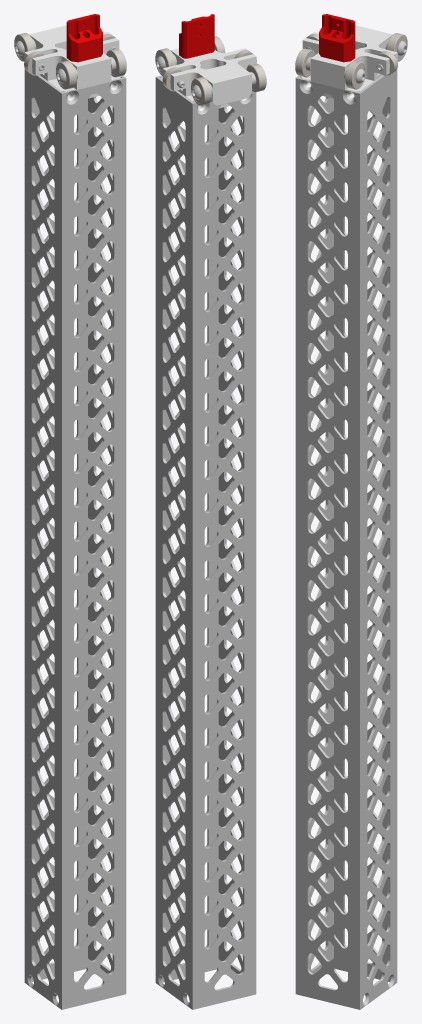
The picture shows the model from 3 angles, left to right: view 1: azimuth 30°, elevation 25°; view 2: azimuth 210°, elevation 25°; view 3: azimuth 330°, elevation 25°; orthographic projection.
Visible parts, largest first — view 1: Body1.207, Body1.198, Body3.005, Body1.194, Body1.196, Body1.195; view 2: Body1.207, Body1.198, Body3.005, Body1.197, Body1.195; view 3: Body1.207, Body1.198, Body3.005, Body1.196, Body1.194, Body1.197.
Boxes of the visible parts, x1,y1,x2,y2 form: Body1.207: (24, 68, 126, 1009); Body1.198: (24, 25, 120, 100); Body3.005: (66, 14, 102, 62); Body1.194: (56, 60, 76, 89); Body1.196: (106, 48, 126, 77); Body1.195: (14, 33, 35, 61); Body1.207: (155, 75, 256, 1009); Body1.198: (161, 48, 256, 110); Body3.005: (179, 14, 214, 58); Body1.197: (191, 77, 211, 105); Body1.195: (246, 63, 266, 92); Body1.207: (295, 68, 397, 1009); Body1.198: (301, 25, 397, 100); Body3.005: (319, 14, 355, 62); Body1.196: (345, 60, 365, 89); Body1.194: (295, 48, 315, 77); Body1.197: (386, 33, 407, 61).
Size of the model in its own units: 0.0723 by 0.7352 by 0.0722.
